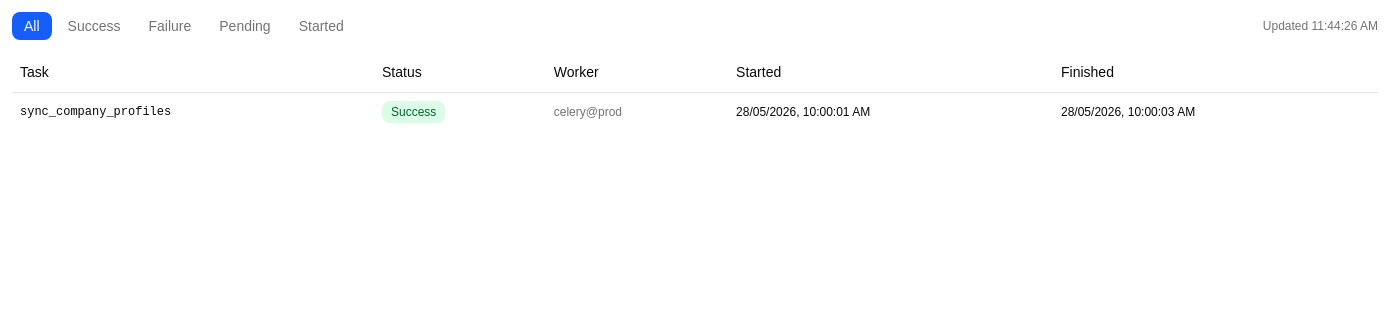
it: TaskResultsTable › expands row to show result on click
Expected: the text "sync_company_profiles" is shown, [12,92,374,130]
Click the text "sync_company_profiles".
click(96, 112)  # box [12,92,1378,130]
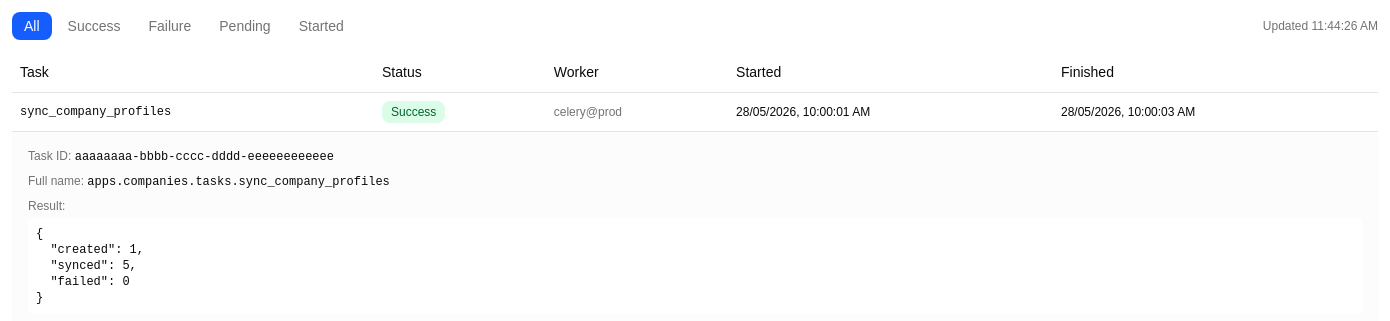
Now the text "Task ID:" is shown, box [28,148,75,162]
